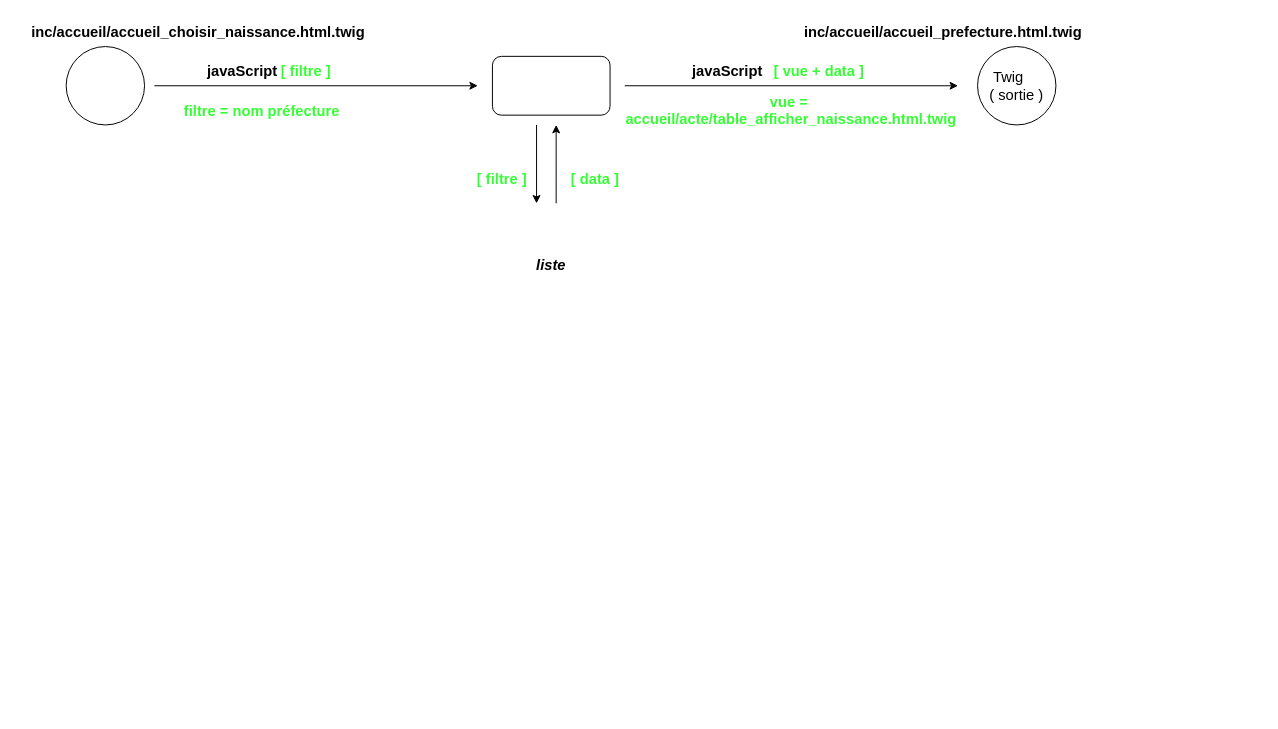
This 1278x729 diagram has some shape labels left out. Here are the shapes that lost their labels. From the top down, the centre of each, then its label:
At [105,85]: "Twig ( entrée )".
At [550,85]: "PHP ( traitement )".
